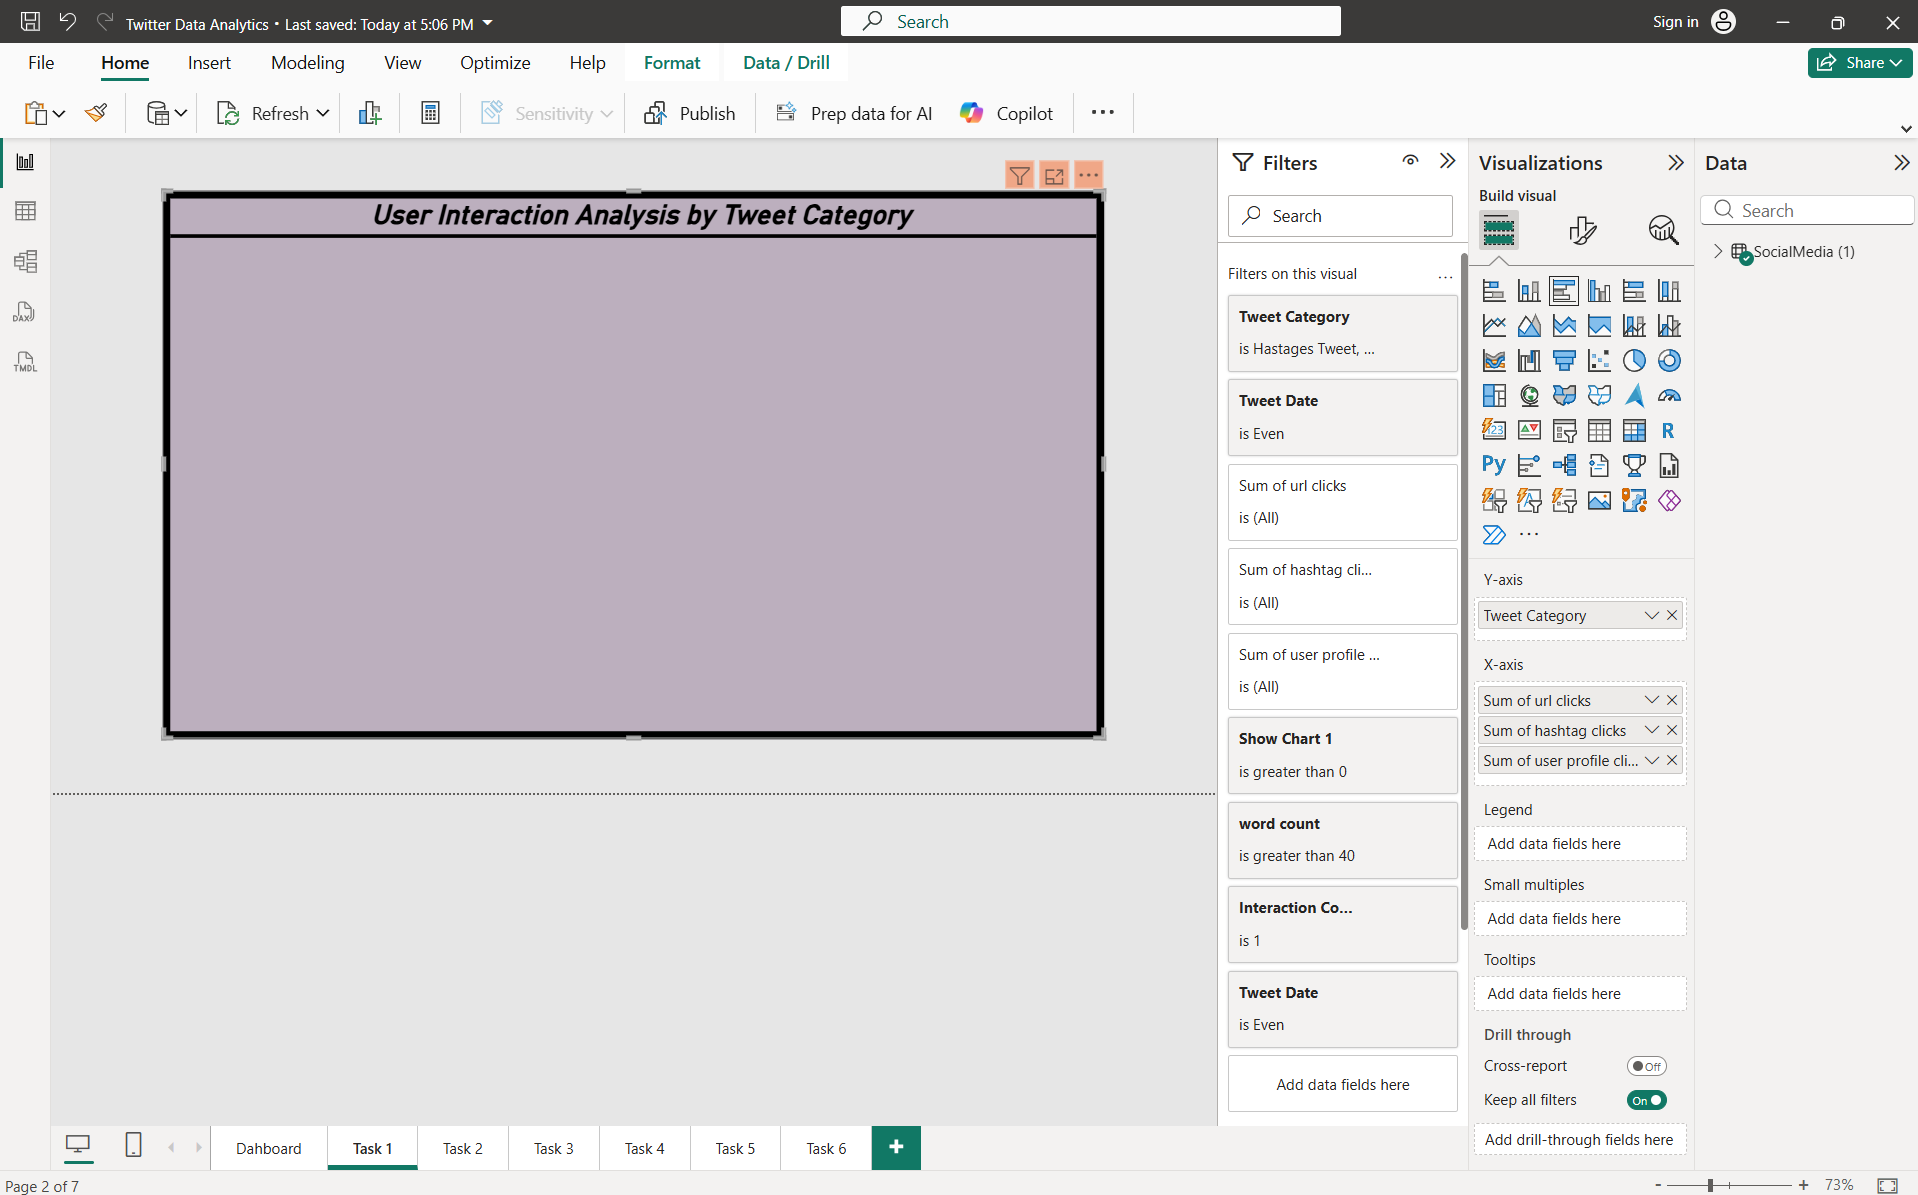

What the dashboard file says about the page in this screenshot:
{"tool":"powerbi","page":{"name":"Task 1","canvas":[1280,720],"ordinal":1},"visuals":[{"type":"clusteredBarChart","title":"User Interaction Analysis by Tweet Category","fields":{"Category":["SocialMedia (1).Tweet Category"],"Y":["Sum(SocialMedia (1).url clicks)","Sum(SocialMedia (1).hashtag clicks)","Sum(SocialMedia (1).user profile clicks)"]},"box":[122.1,57.6,1034.7,602.4],"z":0}]}

Visuals, with their boxes on the page's 1280x720 design canvas (x1, y1, x2, y2). These are canvas units, not pixel positions in the 1918x1195 screenshot, which may show the page scaled, cropped or inside an application window:
"User Interaction Analysis by Tweet Category" clusteredBarChart: [x1=122, y1=58, x2=1157, y2=660]
